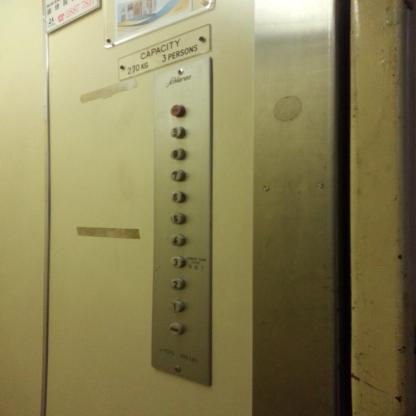1: (168, 299, 184, 313)
2: (168, 277, 186, 291)
3: (168, 255, 186, 269)
4: (168, 233, 186, 247)
5: (169, 212, 186, 226)
6: (168, 190, 185, 204)
7: (168, 168, 186, 183)
8: (168, 147, 186, 161)
9: (168, 125, 185, 139)
text: (168, 321, 184, 336)
text_blur: (169, 103, 186, 118)
